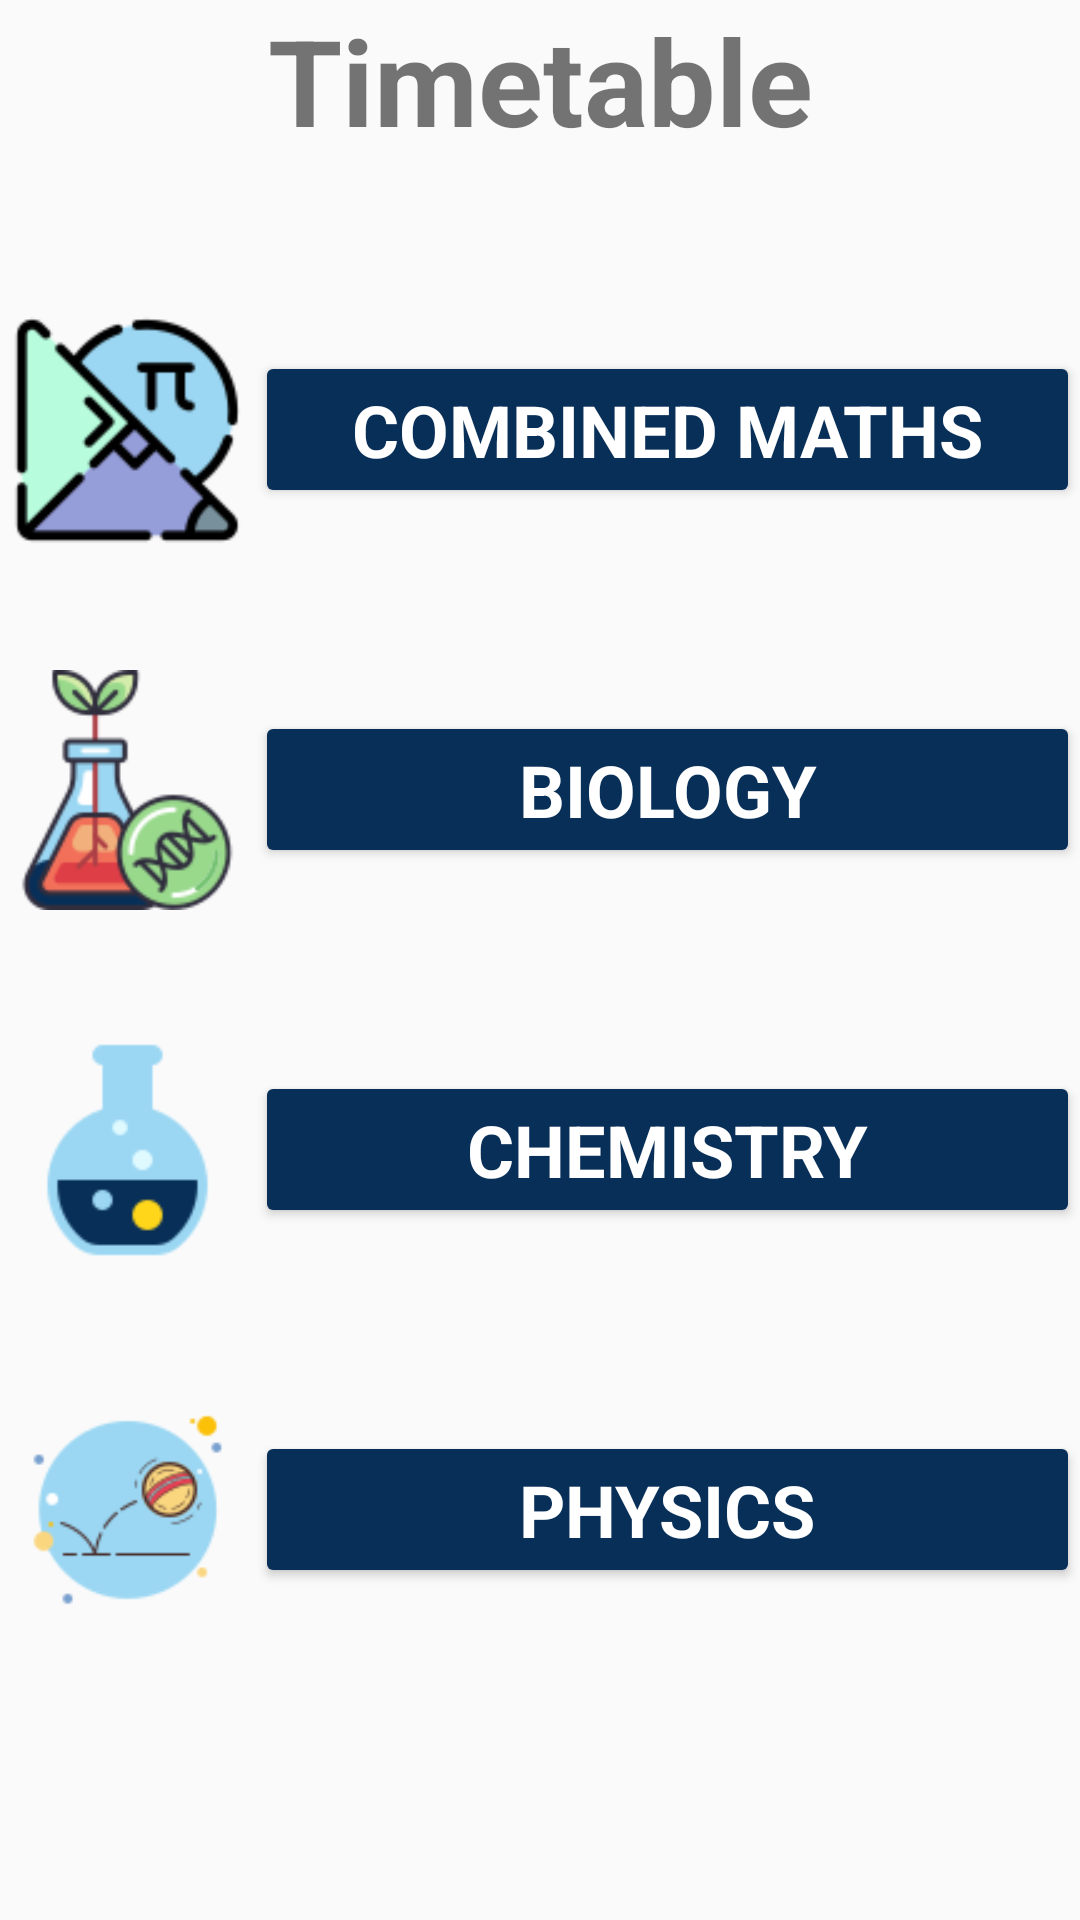

Icon bounding boxes for this 1080px×1920px phone screenshot, format (x1, y1, x2, y2):
bioicon: (22, 670, 233, 910)
chemicon: (47, 1044, 208, 1256)
mathsicon: (15, 319, 239, 542)
phyicon: (33, 1415, 222, 1604)
